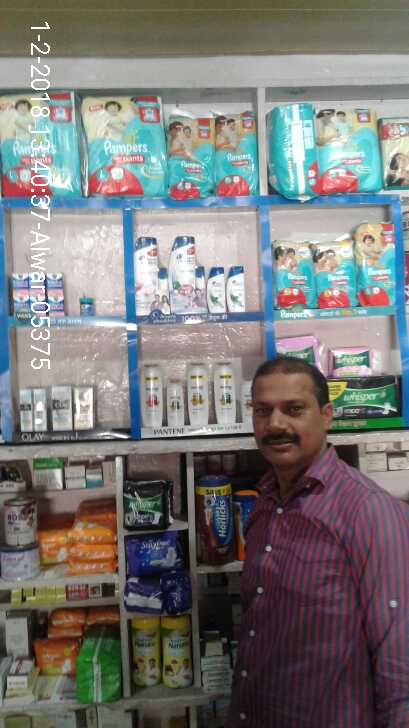vicks: (7, 269, 100, 324)
